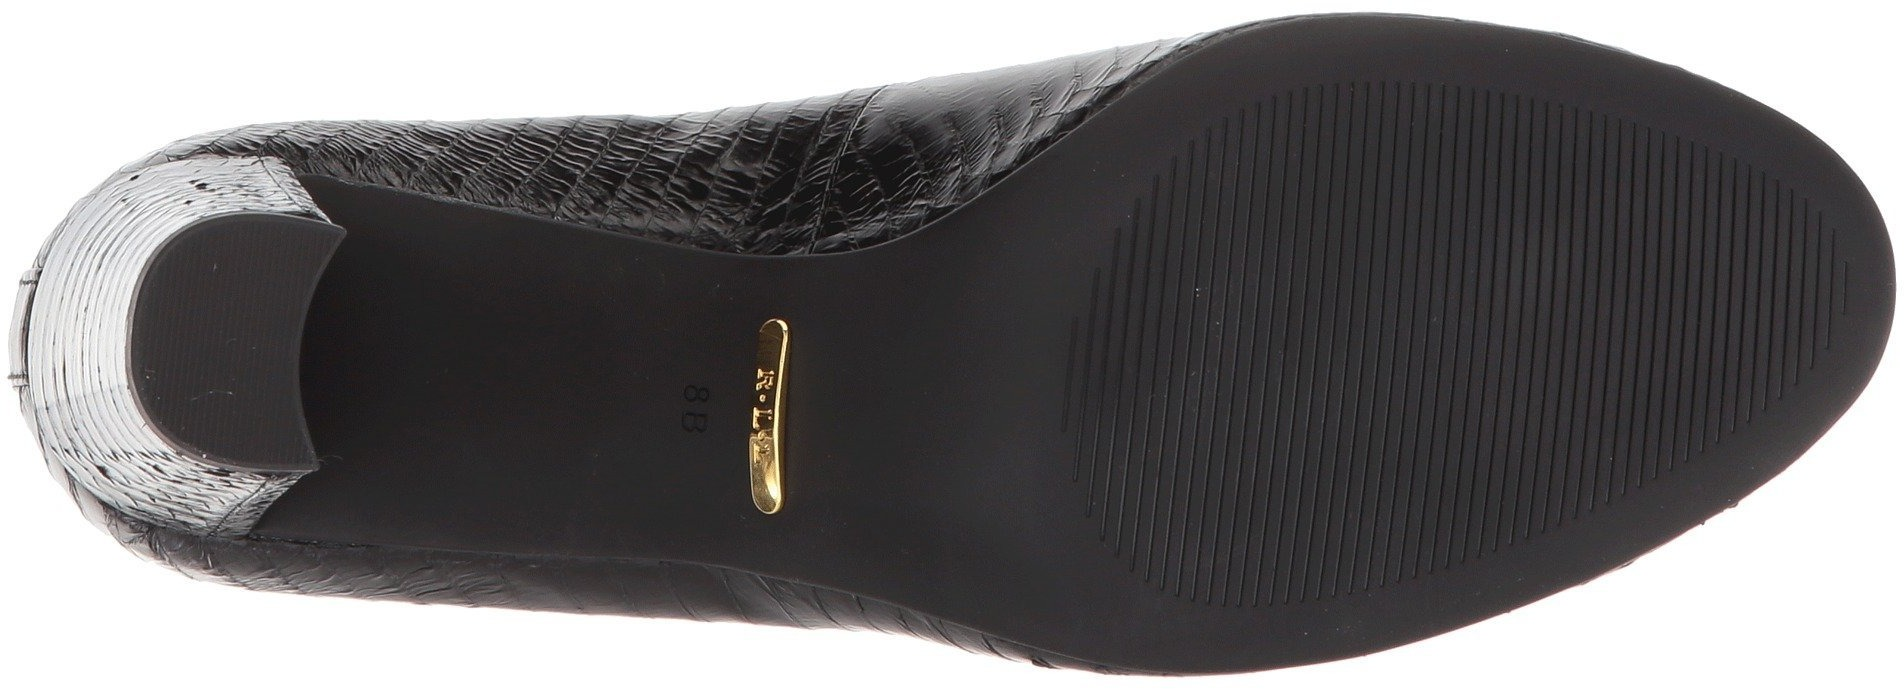exclude: (195, 160, 797, 612)
other: (1095, 215, 1426, 549), (1432, 117, 1774, 437), (809, 300, 1052, 555), (1285, 83, 1428, 213), (158, 265, 290, 399)
